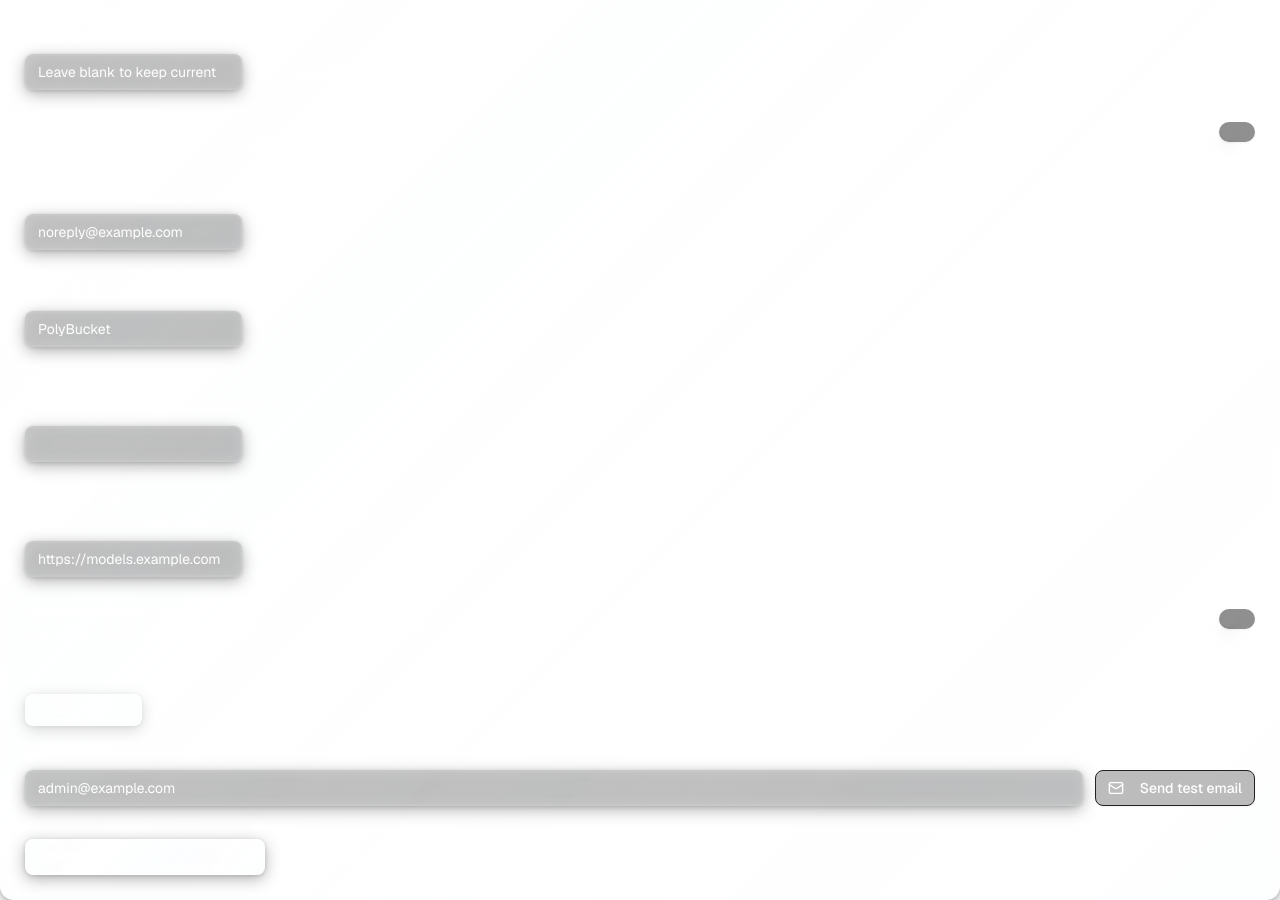
Test case: EmailSettingsSection › shows each diagnostic stage after running a test
This screenshot has width=1280, height=900.
(page scrolled)
Click the button "Send test email" at (1175, 788), box [1095,770,1255,806]
(page scrolled)
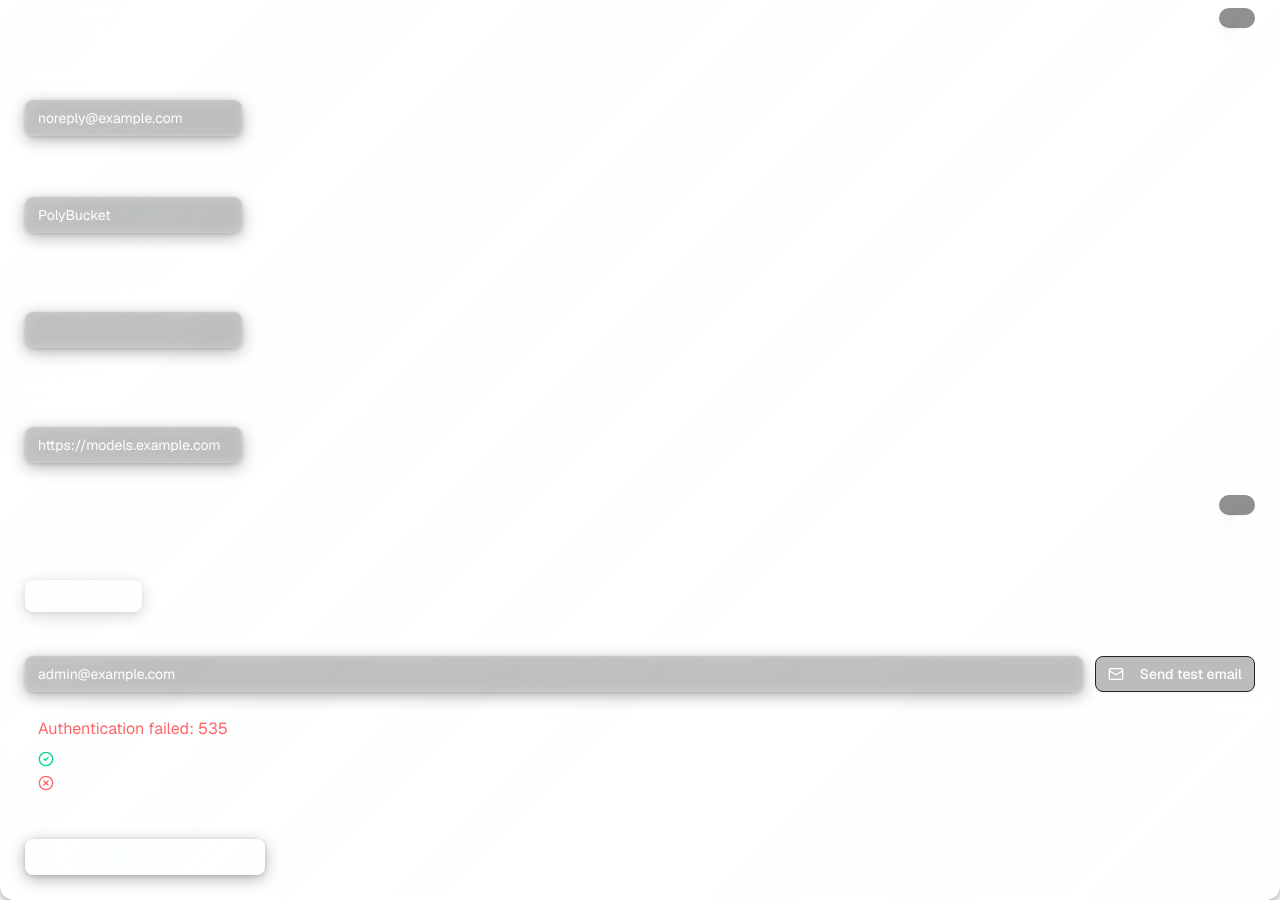
Now the element named "Email test results" is shown, box [25,704,1255,806]
Now the icon named "failed" is shown, box [38,775,54,791]
